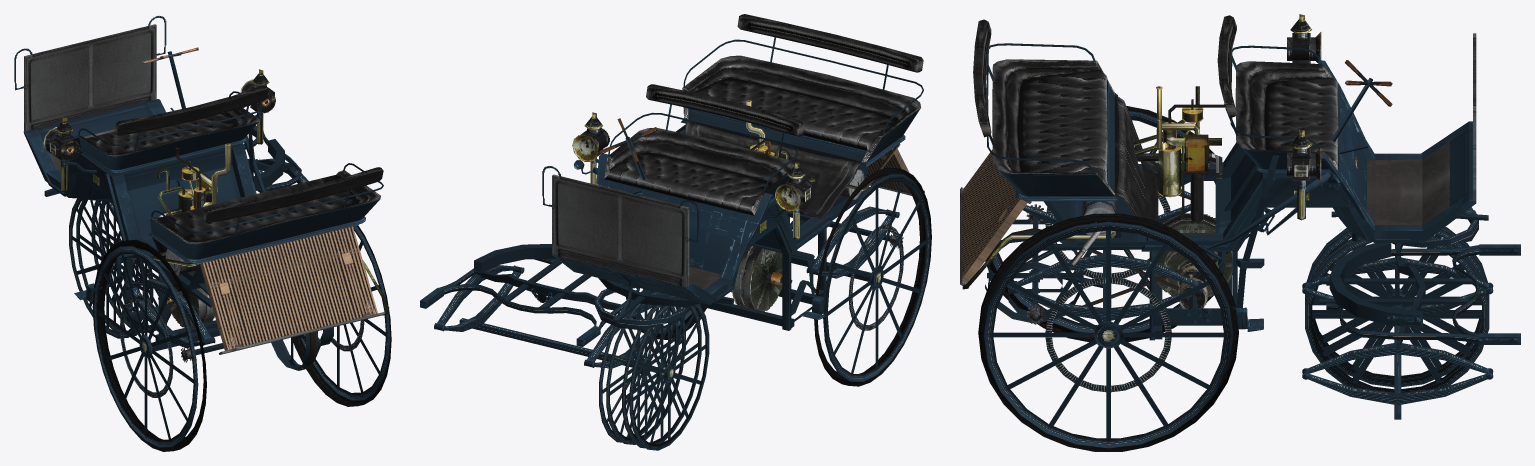
Rendered from GT4_DMLR0001.glb.
3 views of the same model, side by side, from view 1: azimuth 30°, elevation 25°; view 2: azimuth 150°, elevation 25°; view 3: azimuth 270°, elevation 25° (orthographic). The views are drawn at different scales.
Parts seen in each view (by area): view 1: body, wheel_rear_left, tire_rear_left, wheel_front_left, wheel_rear_right, wheel_front_right, tire_rear_right; view 2: body, wheel_rear_left, wheel_front_left, wheel_front_right, tire_rear_left; view 3: body, wheel_rear_right, wheel_front_right, tire_rear_right, wheel_front_left, wheel_rear_left, tire_rear_left.
Boxes of the visible parts, bbox=[...] form: body: bbox=[14, 16, 389, 370]; wheel_rear_left: bbox=[94, 246, 198, 447]; tire_rear_left: bbox=[92, 240, 206, 451]; wheel_front_left: bbox=[69, 198, 158, 338]; wheel_rear_right: bbox=[300, 226, 390, 400]; wheel_front_right: bbox=[76, 198, 171, 335]; tire_rear_right: bbox=[293, 225, 391, 406]; body: bbox=[420, 14, 924, 369]; wheel_rear_left: bbox=[823, 174, 930, 381]; wheel_front_left: bbox=[606, 291, 709, 450]; wheel_front_right: bbox=[599, 289, 701, 448]; tire_rear_left: bbox=[814, 167, 931, 386]; body: bbox=[960, 14, 1520, 419]; wheel_rear_right: bbox=[983, 221, 1233, 448]; wheel_front_right: bbox=[1305, 229, 1489, 389]; tire_rear_right: bbox=[978, 213, 1238, 451]; wheel_front_left: bbox=[1305, 227, 1489, 392]; wheel_rear_left: bbox=[992, 111, 1215, 332]; tire_rear_left: bbox=[985, 106, 1214, 342].
Size of the model in its own units: 1.86 by 1.73 by 2.53.
91 materials, 91 textured.
